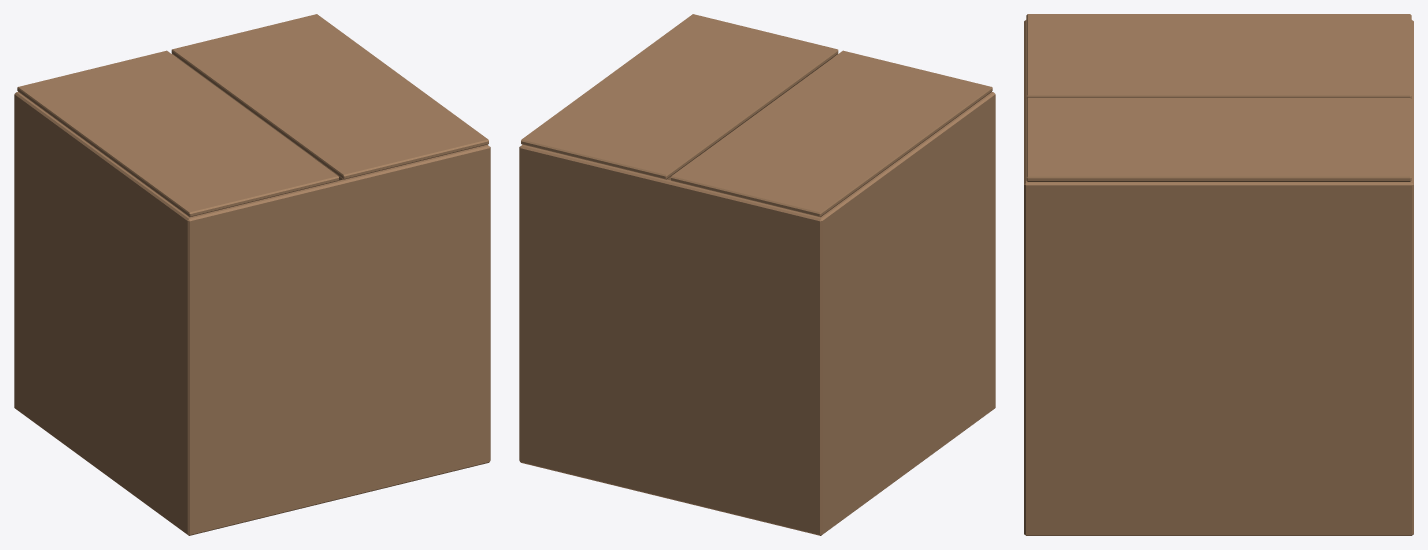
File: cardboard box.fbx
3 views of the same model, side by side, from view 1: azimuth 30°, elevation 25°; view 2: azimuth 150°, elevation 25°; view 3: azimuth 270°, elevation 25° (orthographic). The views are drawn at different scales.
Parts seen in each view (by area): view 1: box, left_side, right_side; view 2: box, left_side, right_side; view 3: box, left_side, right_side.
Part boxes in pixels (<box>): box: <box>14,54,490,535</box>; left_side: <box>17,50,338,217</box>; right_side: <box>171,14,488,179</box>; box: <box>519,54,995,535</box>; left_side: <box>671,50,992,217</box>; right_side: <box>521,14,838,179</box>; box: <box>1024,20,1413,535</box>; left_side: <box>1026,14,1411,98</box>; right_side: <box>1026,98,1411,181</box>.
Size of the model in its own units: 1 by 1.02 by 1.
